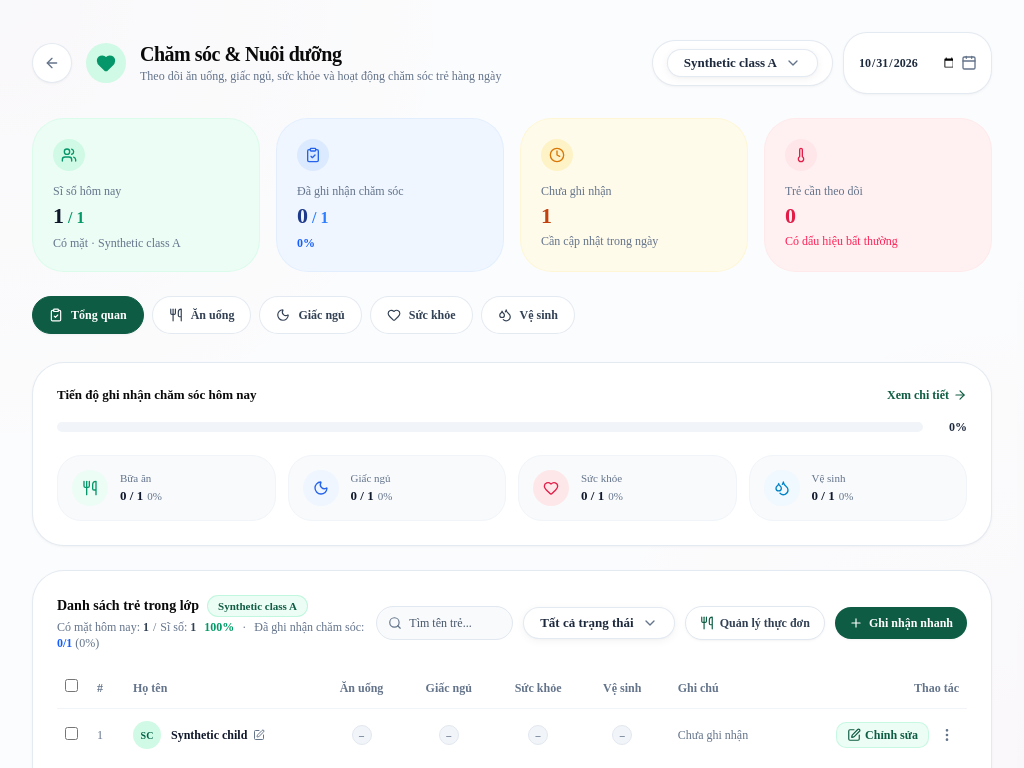
Scenario: A reload-failed save keeps the quick editor and a visible error without claiming success
The image size is (1024, 768).
expect the text "Synthetic child" is shown: met, box [171,727,247,743]
Click the button "Ghi nhận nhanh".
click(901, 623)  # box [835,607,967,639]
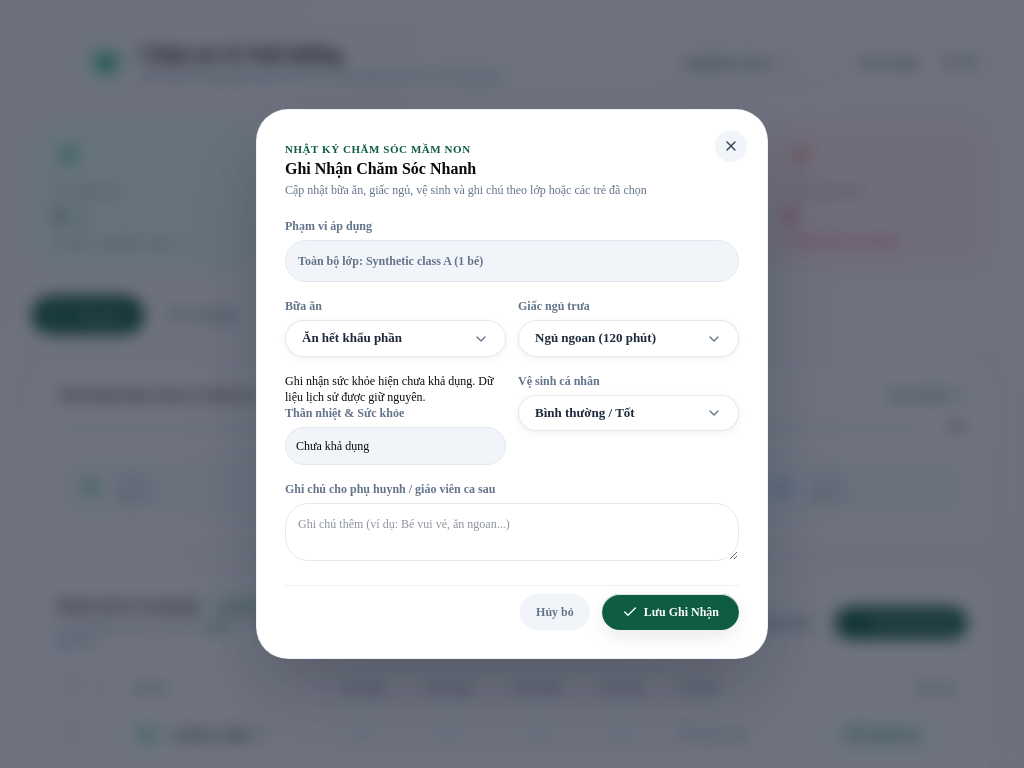
expect the field labelled "Thân nhiệt & Sức khỏe" is disabled: met, box [285,427,506,465]
Type "Synthetic unsaved draft" into the text box labelled "Ghi chú cho phụ huynh / giáo viên ca sau".
click(512, 532); type("Synthetic unsaved draft")  # box [285,503,739,561]
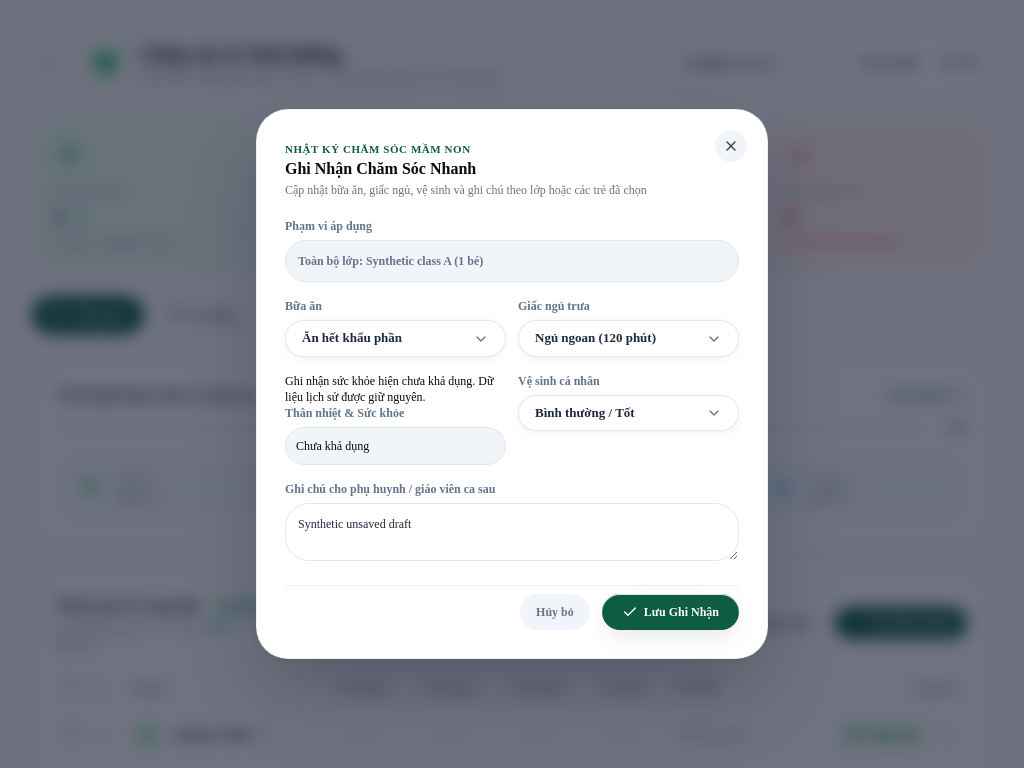
Click the button "Lưu Ghi Nhận".
click(670, 612)  # box [602,594,739,630]
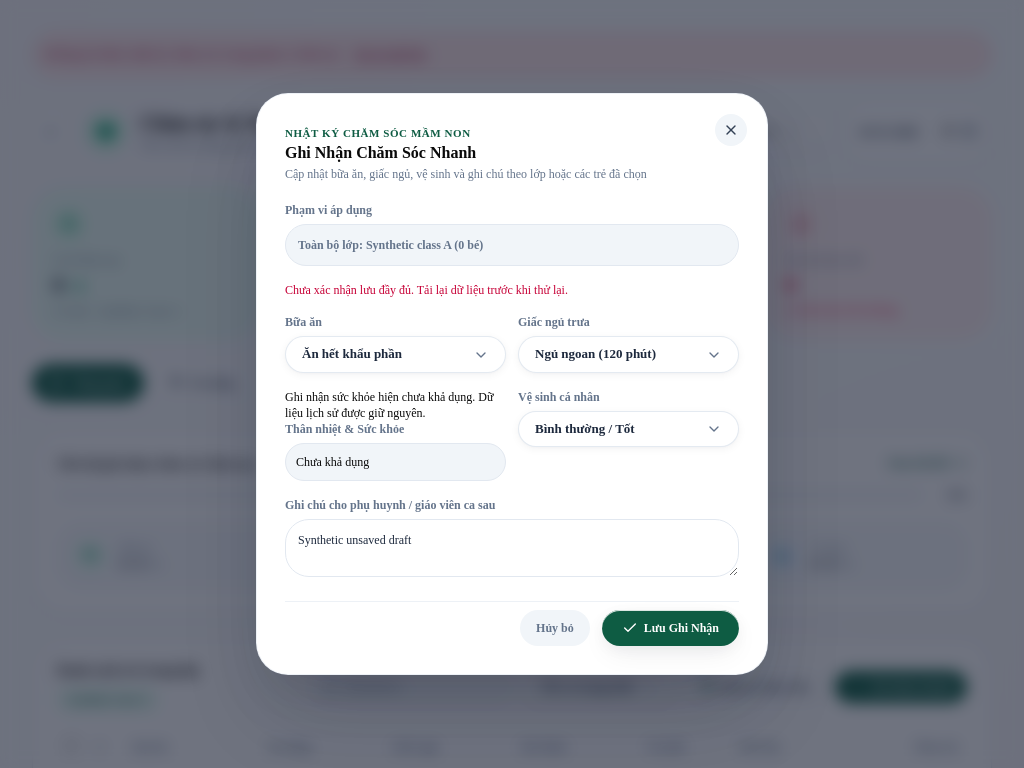
expect the button "Synthetic child" is not shown: met
expect the dialog "Ghi Nhận Chăm Sóc Nhanh" is shown: met, box [256,93,768,675]
expect the message "Chưa xác nhận lưu đầy đủ. Tải lại dữ liệu trước khi thử lại." is shown: met, box [285,283,568,297]
